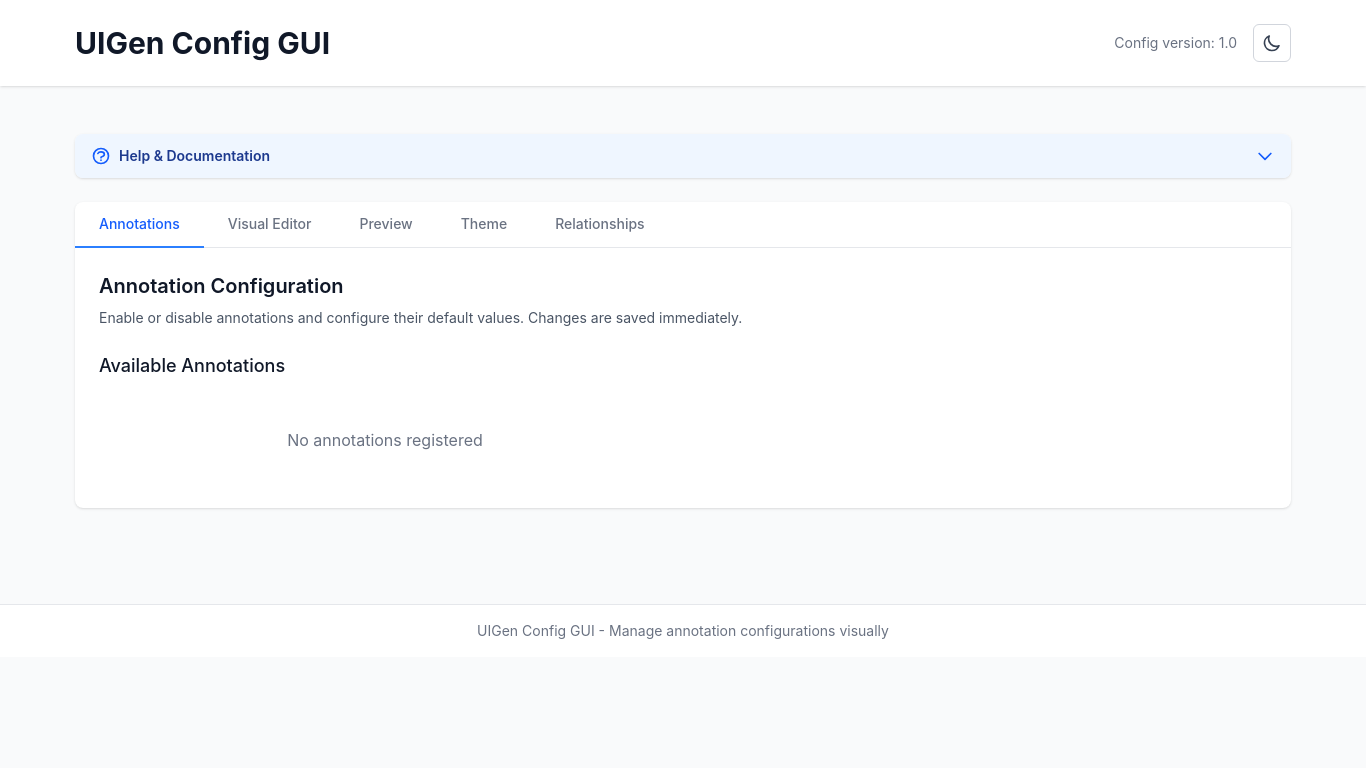
Test case: App › should retry loading CSS when retry button is clicked
# Click CSS tab
Step 1. Click the button with test id "css-tab" → {"x": 484, "y": 225}, box [437, 202, 531, 248]
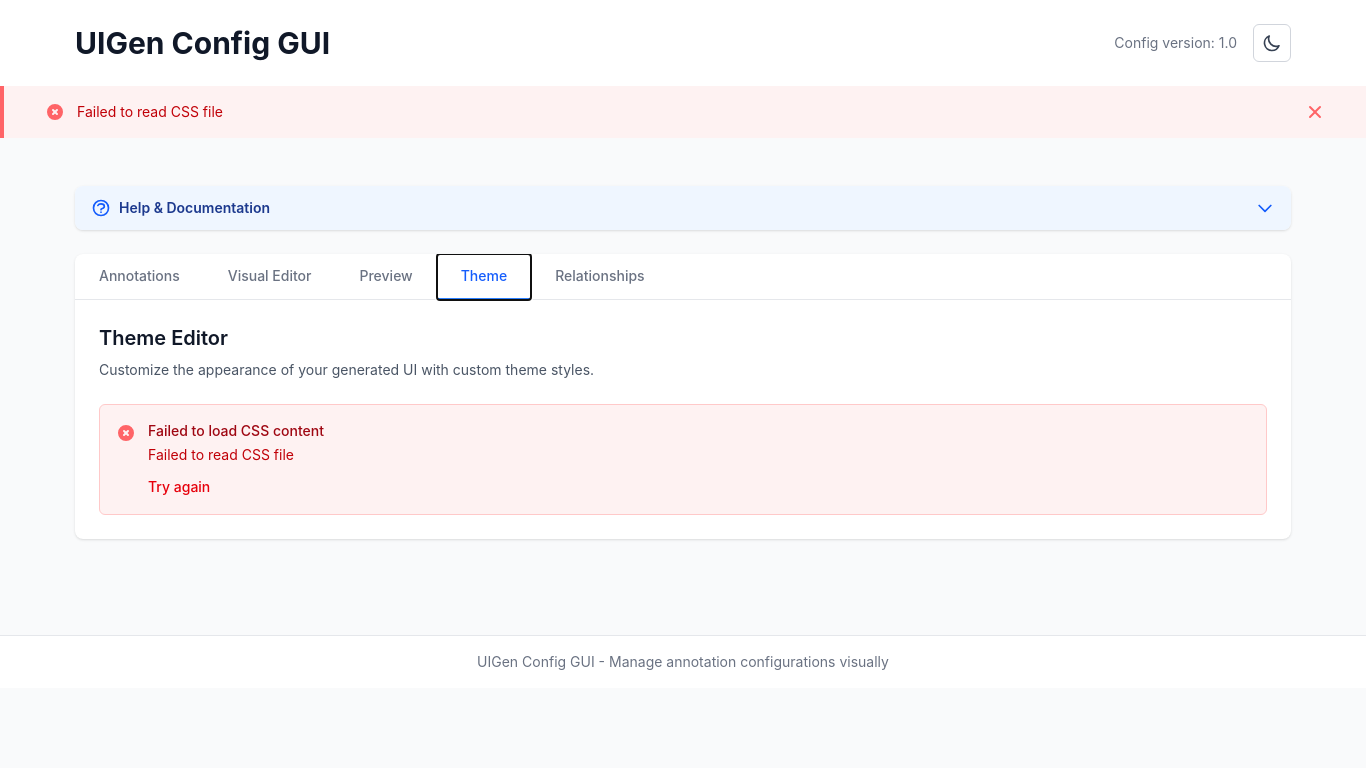
Expected: the heading "Failed to load CSS content" is shown, [148, 422, 324, 439]
# Click retry button
Step 2. Click the button "Try again" → {"x": 179, "y": 487}, box [148, 477, 210, 497]
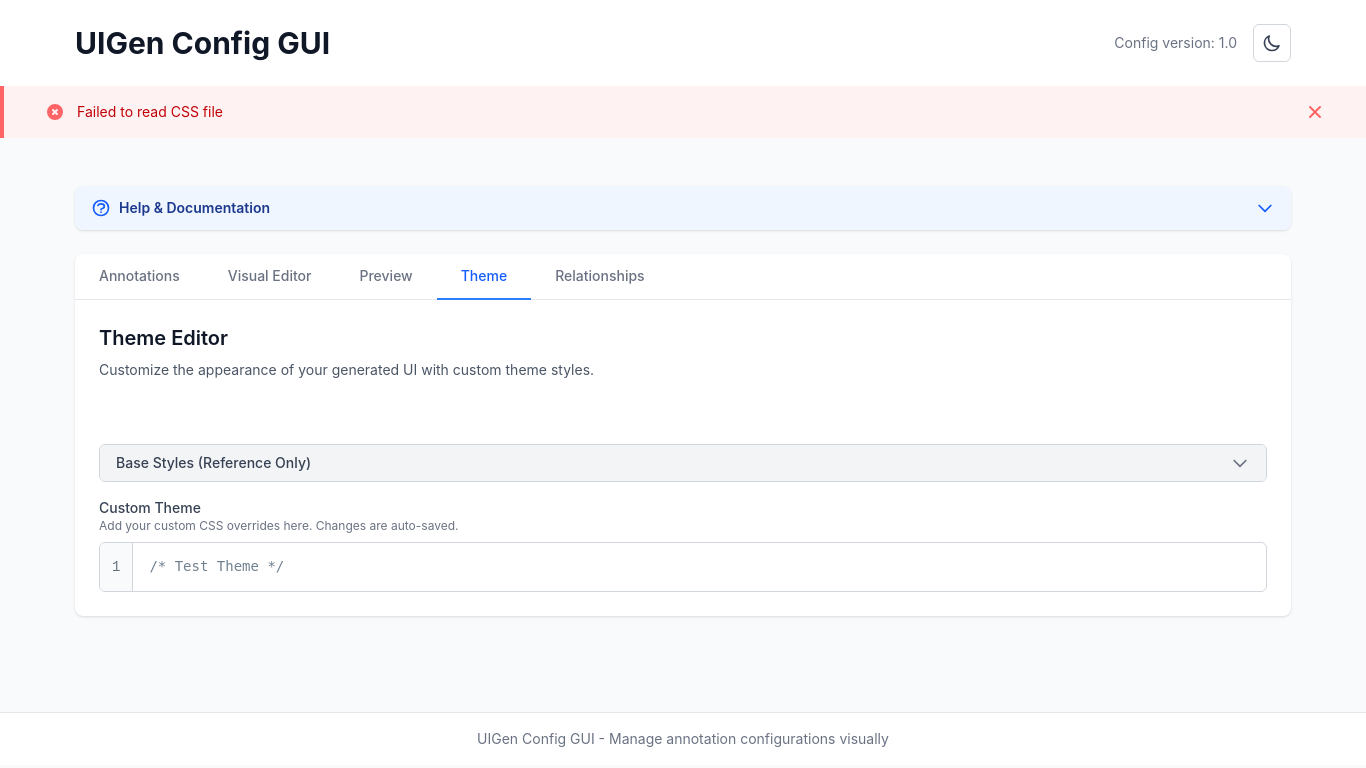
Expected: the text box with test id "css-editor-textarea" is shown, [133, 543, 1266, 591]
